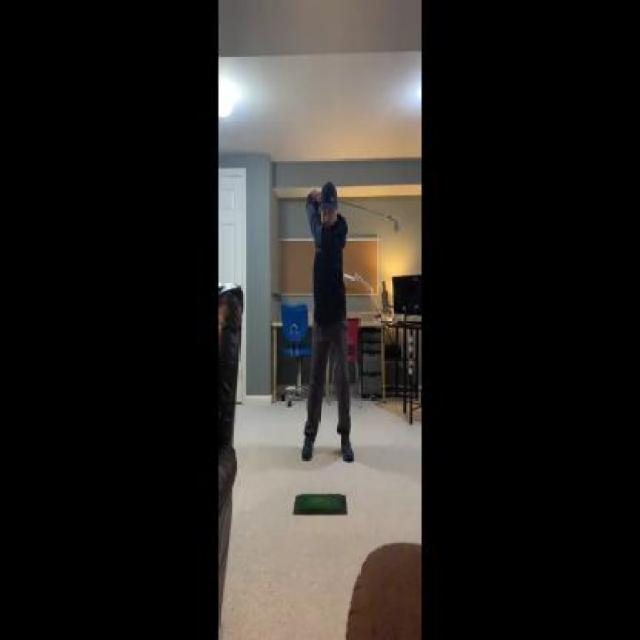club head: (388, 213, 401, 236)
